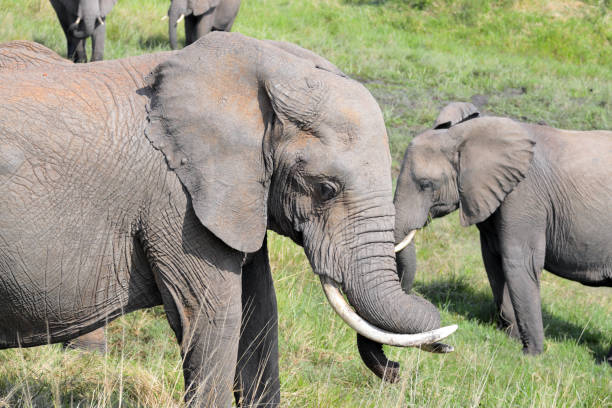africanelephant: (204, 35, 464, 372)
